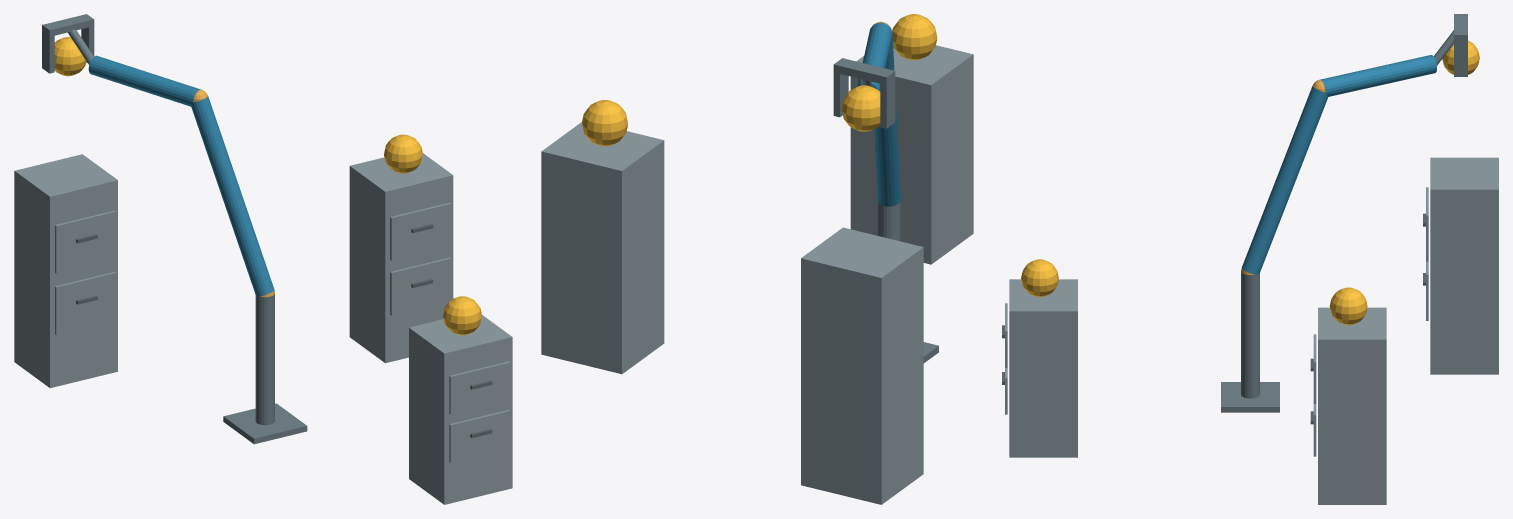
3 views of the same model, side by side, from view 1: azimuth 30°, elevation 25°; view 2: azimuth 150°, elevation 25°; view 3: azimuth 270°, elevation 25° (orthographic). The views are drawn at different scales.
Parts seen in each view (by area): view 1: cabinet_3 body, cabinet_2 body, cabinet_1 body, moving link 1, cabinet_3 drawer front.001, cabinet_3 drawer front, cabinet_2 drawer front.001, cabinet_2 drawer front, fixed post, cabinet_1 drawer front.001, cabinet_1 drawer front, moving link 2 (+5 smaller); view 2: cabinet_3 body, cabinet_2 body, cabinet_1 body, moving link 1, released ball_2, released ball_1, ball ball_3, moving link 2, gripper bridge, fixed post, gripper finger -1, gripper finger 1; view 3: cabinet_3 body, cabinet_2 body, cabinet_1 body, moving link 1, fixed post, moving link 2, pedestal, released ball_2, released ball_1.
Boxes of the visible parts, box(x1,y1,x2,y2) form: cabinet_3 body: box(14, 154, 117, 388); cabinet_2 body: box(349, 153, 453, 363); cabinet_1 body: box(409, 315, 512, 504); moving link 1: box(191, 96, 274, 296); cabinet_3 drawer front.001: box(55, 210, 116, 273); cabinet_3 drawer front: box(55, 272, 116, 335); cabinet_2 drawer front.001: box(390, 202, 451, 260); cabinet_2 drawer front: box(390, 257, 451, 315); fixed post: box(255, 294, 274, 425); cabinet_1 drawer front.001: box(449, 361, 510, 414); cabinet_1 drawer front: box(449, 410, 510, 462); moving link 2: box(88, 55, 200, 106); cabinet_3 body: box(801, 227, 923, 504); cabinet_2 body: box(541, 122, 664, 374); cabinet_1 body: box(850, 45, 973, 264); moving link 1: box(874, 34, 900, 206); released ball_2: box(582, 100, 627, 146); released ball_1: box(892, 14, 937, 60); ball ball_3: box(841, 85, 880, 131); moving link 2: box(857, 22, 892, 90); gripper bridge: box(833, 58, 895, 85); fixed post: box(877, 200, 900, 241); gripper finger -1: box(880, 79, 895, 128); gripper finger 1: box(833, 72, 848, 117); cabinet_3 body: box(1430, 157, 1498, 374); cabinet_2 body: box(1318, 307, 1386, 504); cabinet_1 body: box(1009, 279, 1077, 457); moving link 1: box(1242, 86, 1328, 274); fixed post: box(1241, 271, 1259, 398); moving link 2: box(1320, 55, 1436, 96); pedestal: box(1221, 382, 1279, 412); released ball_2: box(1329, 287, 1367, 325); released ball_1: box(1021, 259, 1058, 296).
Size of the model in its own units: 1.62 by 1.55 by 2.1.
